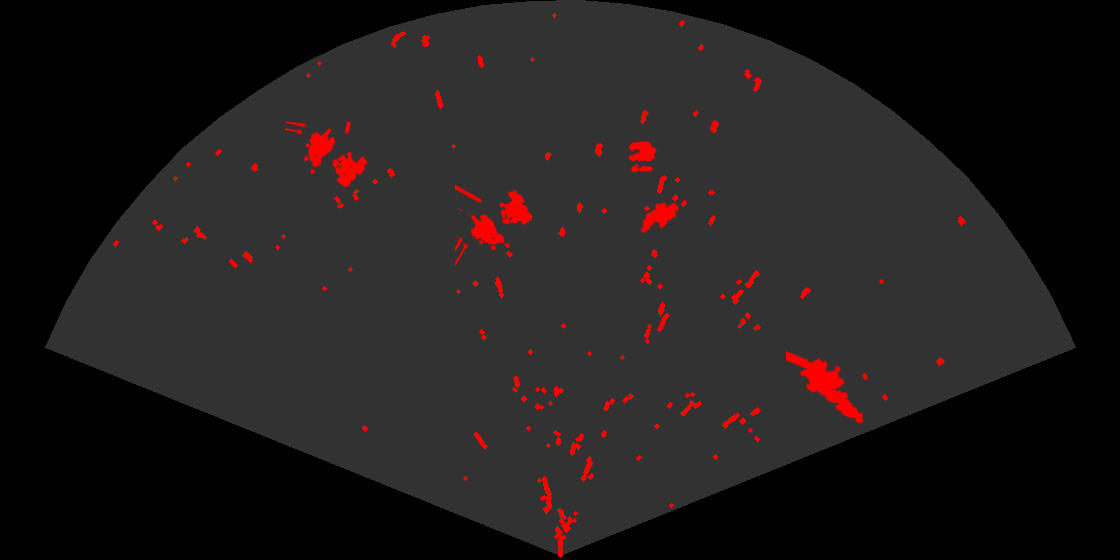AUV: (639, 200, 681, 234)
ball: (627, 140, 658, 174)
cage: (455, 183, 534, 267), (285, 122, 369, 189)
frogman: (786, 349, 865, 425)
